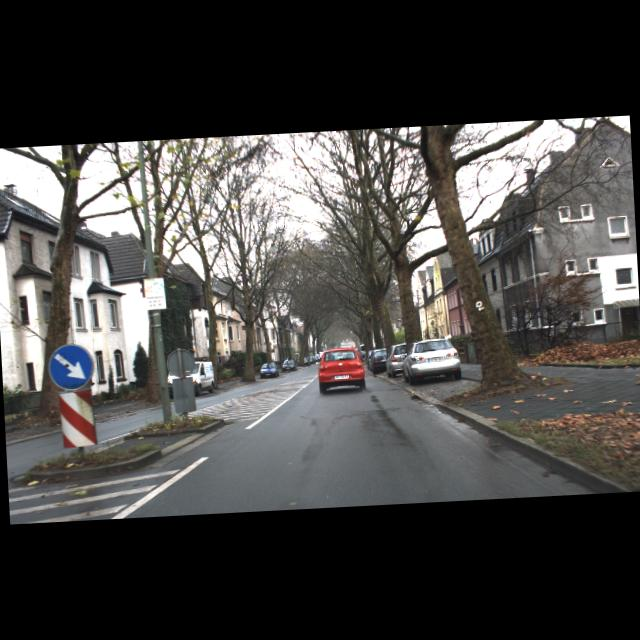mandatory: (48, 342, 94, 392)
